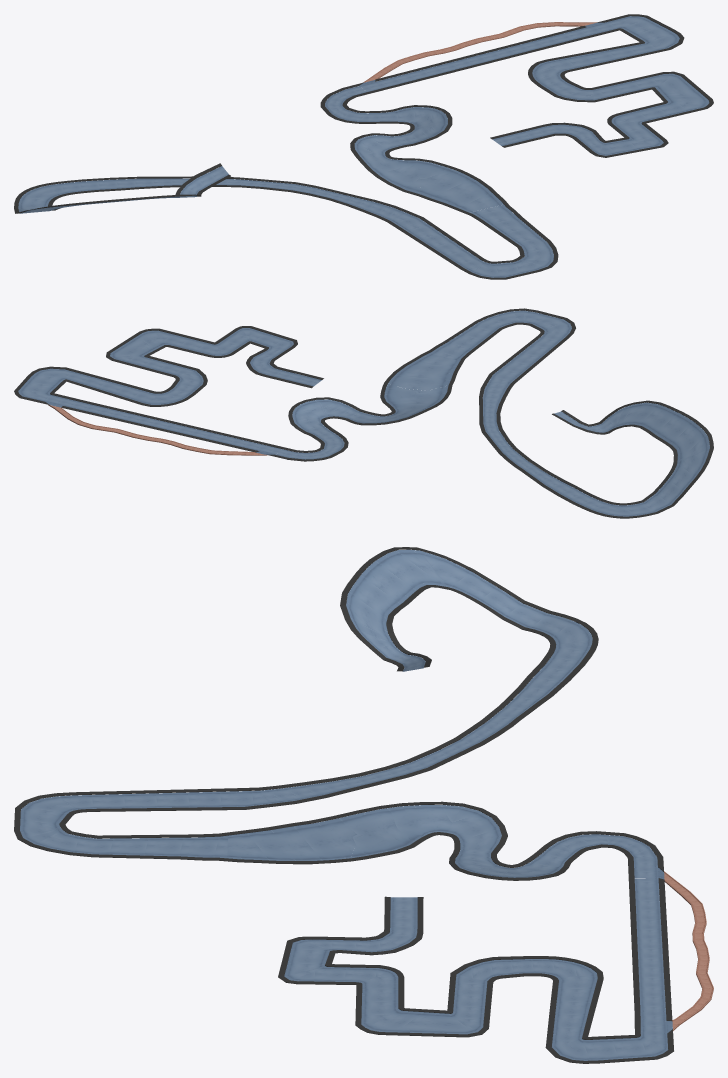
The picture shows the model from 3 angles, top to bottom: view 1: azimuth 30°, elevation 25°; view 2: azimuth 150°, elevation 25°; view 3: azimuth 270°, elevation 25°; orthographic projection. The views are drawn at different scales.
Parts seen in each view (by area): view 1: PisteFinale, Trottoirs, PisteFinale.001, M.Caillebotis.FDM.001, M.Caillebotis.FDM.002; view 2: PisteFinale, Trottoirs, PisteFinale.001, M.Caillebotis.FDM.001, M.Caillebotis.FDM.002; view 3: PisteFinale, Trottoirs, PisteFinale.001, M.Caillebotis.FDM.001.
Part boxes in pixels (x1,y1,x2,y2): PisteFinale: (18,16,709,277); Trottoirs: (14,14,713,279); PisteFinale.001: (419,171,503,212); M.Caillebotis.FDM.001: (364,22,594,82); M.Caillebotis.FDM.002: (363,22,596,82); PisteFinale: (18,310,709,516); Trottoirs: (14,308,713,518); PisteFinale.001: (388,353,459,390); M.Caillebotis.FDM.001: (51,405,263,454); M.Caillebotis.FDM.002: (48,404,267,455); PisteFinale: (20,549,668,1060); Trottoirs: (14,547,673,1063); PisteFinale.001: (227,824,355,860); M.Caillebotis.FDM.001: (664,872,712,1028).
Bounding box in the file's own units: 46498 × 3236 × 29614.
